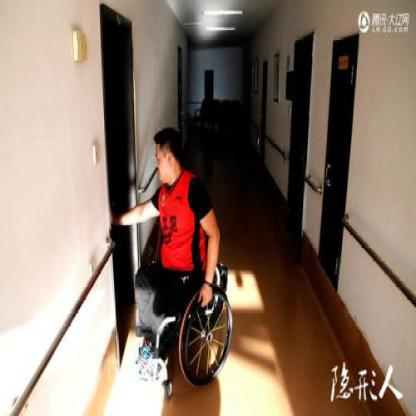wheelchair: (113, 121, 233, 395)
